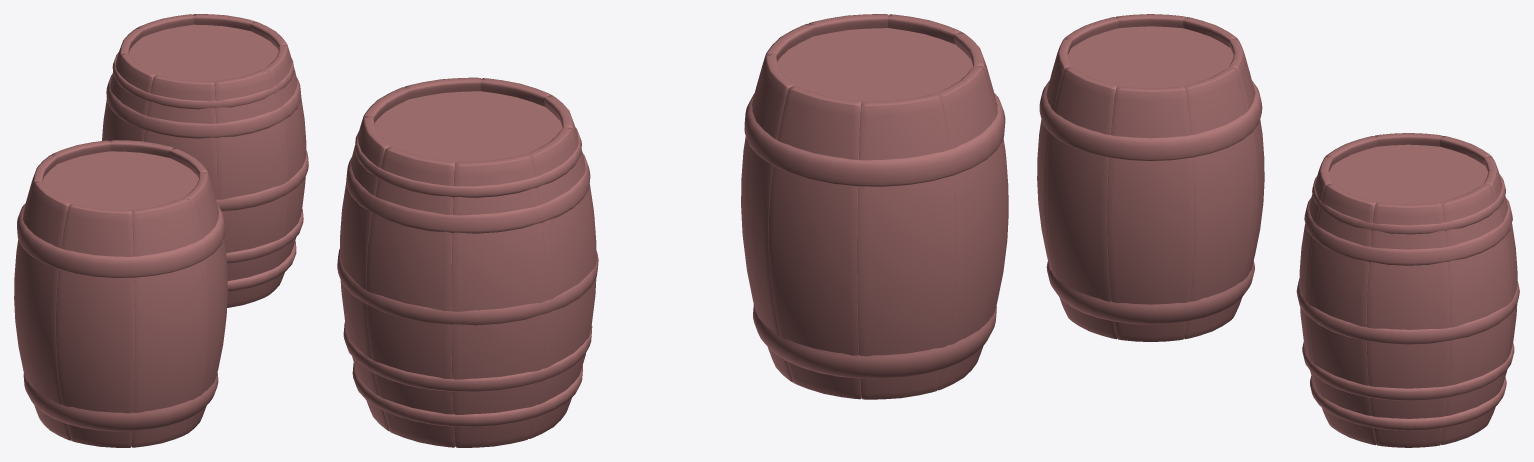
File: sm_barrel_high_poly.fbx
3 views of the same model, side by side, from view 1: azimuth 30°, elevation 25°; view 2: azimuth 150°, elevation 25°; view 3: azimuth 270°, elevation 25° (orthographic). The views are drawn at different scales.
Parts seen in each view (by area): view 1: polySurface424, polySurface430, polySurface444, polySurface423, polySurface432, polySurface448, polySurface376, polySurface426, polySurface445, polySurface442, polySurface422, polySurface406 (+13 smaller); view 2: polySurface425, polySurface428, polySurface449, polySurface443, polySurface423, polySurface432, polySurface441, polySurface448, polySurface376, polySurface427, polySurface446, polySurface422 (+13 smaller); view 3: polySurface429, polySurface450, polySurface426, polySurface427, polySurface446, polySurface442, polySurface432, polySurface448, polySurface376, polySurface422, polySurface406, polySurface403 (+13 smaller).
Boxes of the visible parts, bbox=[...] form: polySurface424: bbox=[56, 203, 134, 447]; polySurface430: bbox=[131, 197, 205, 447]; polySurface444: bbox=[213, 69, 285, 307]; polySurface423: bbox=[14, 181, 71, 440]; polySurface432: bbox=[42, 151, 198, 209]; polySurface448: bbox=[128, 24, 278, 81]; polySurface376: bbox=[17, 203, 224, 277]; polySurface426: bbox=[184, 172, 227, 433]; polySurface445: bbox=[144, 75, 217, 199]; polySurface442: bbox=[265, 44, 306, 296]; polySurface422: bbox=[23, 372, 218, 431]; polySurface406: bbox=[106, 74, 301, 138]; polySurface425: bbox=[857, 93, 956, 399]; polySurface428: bbox=[768, 85, 861, 399]; polySurface449: bbox=[451, 154, 546, 447]; polySurface443: bbox=[366, 146, 455, 447]; polySurface423: bbox=[936, 65, 1007, 390]; polySurface432: bbox=[777, 28, 972, 101]; polySurface441: bbox=[527, 127, 595, 438]; polySurface448: bbox=[374, 91, 562, 161]; polySurface376: bbox=[744, 93, 1005, 186]; polySurface427: bbox=[741, 54, 794, 382]; polySurface446: bbox=[340, 116, 391, 431]; polySurface422: bbox=[753, 304, 996, 378]; polySurface429: bbox=[1107, 86, 1194, 341]; polySurface450: bbox=[1366, 202, 1450, 447]; polySurface426: bbox=[1045, 66, 1117, 339]; polySurface427: bbox=[1183, 66, 1256, 339]; polySurface446: bbox=[1440, 183, 1509, 444]; polySurface442: bbox=[1307, 183, 1376, 445]; polySurface432: bbox=[1068, 26, 1233, 88]; polySurface448: bbox=[1329, 144, 1488, 204]; polySurface376: bbox=[1039, 80, 1262, 160]; polySurface422: bbox=[1046, 261, 1254, 324]; polySurface406: bbox=[1304, 198, 1512, 265]; polySurface403: bbox=[1296, 278, 1519, 344].
Bounding box in the file's own units: 128 × 75.68 × 130.
